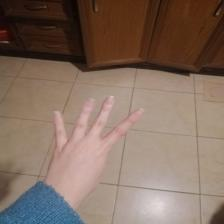four: (50, 96, 147, 188)
